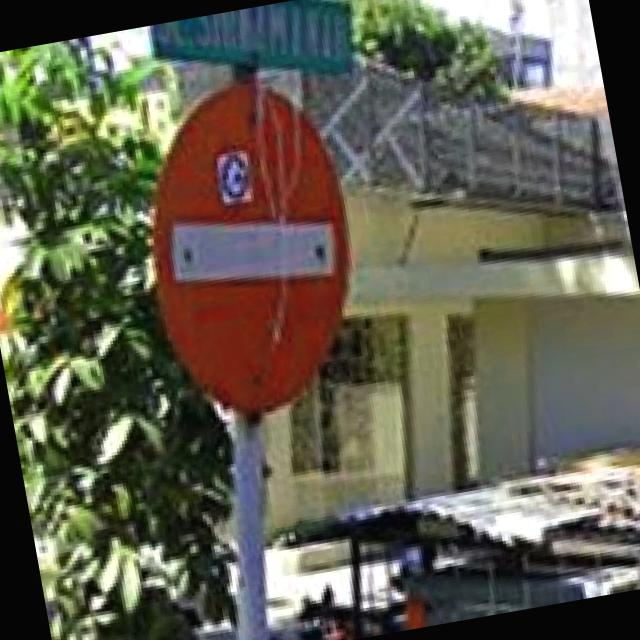Zakaz wjazdu: (124, 70, 378, 430)
